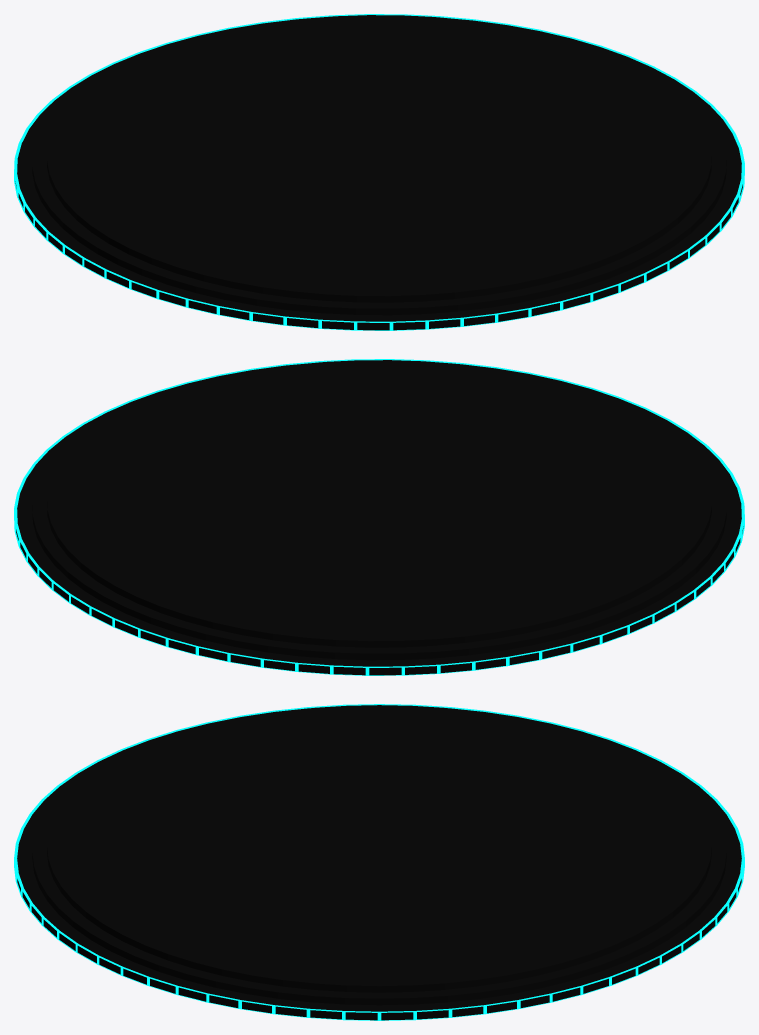
The model's file is circlestage1.glb.
3 views of the same model, one above another, from view 1: azimuth 30°, elevation 25°; view 2: azimuth 150°, elevation 25°; view 3: azimuth 270°, elevation 25° (orthographic).
Visible parts, largest first — view 1: Cylinder; view 2: Cylinder; view 3: Cylinder.
Boxes of the visible parts, <box> form: Cylinder: <box>14,14,744,330</box>; Cylinder: <box>14,359,744,675</box>; Cylinder: <box>14,704,744,1020</box>.
Size of the model in its own units: 2.01 by 0.0631 by 2.01.
